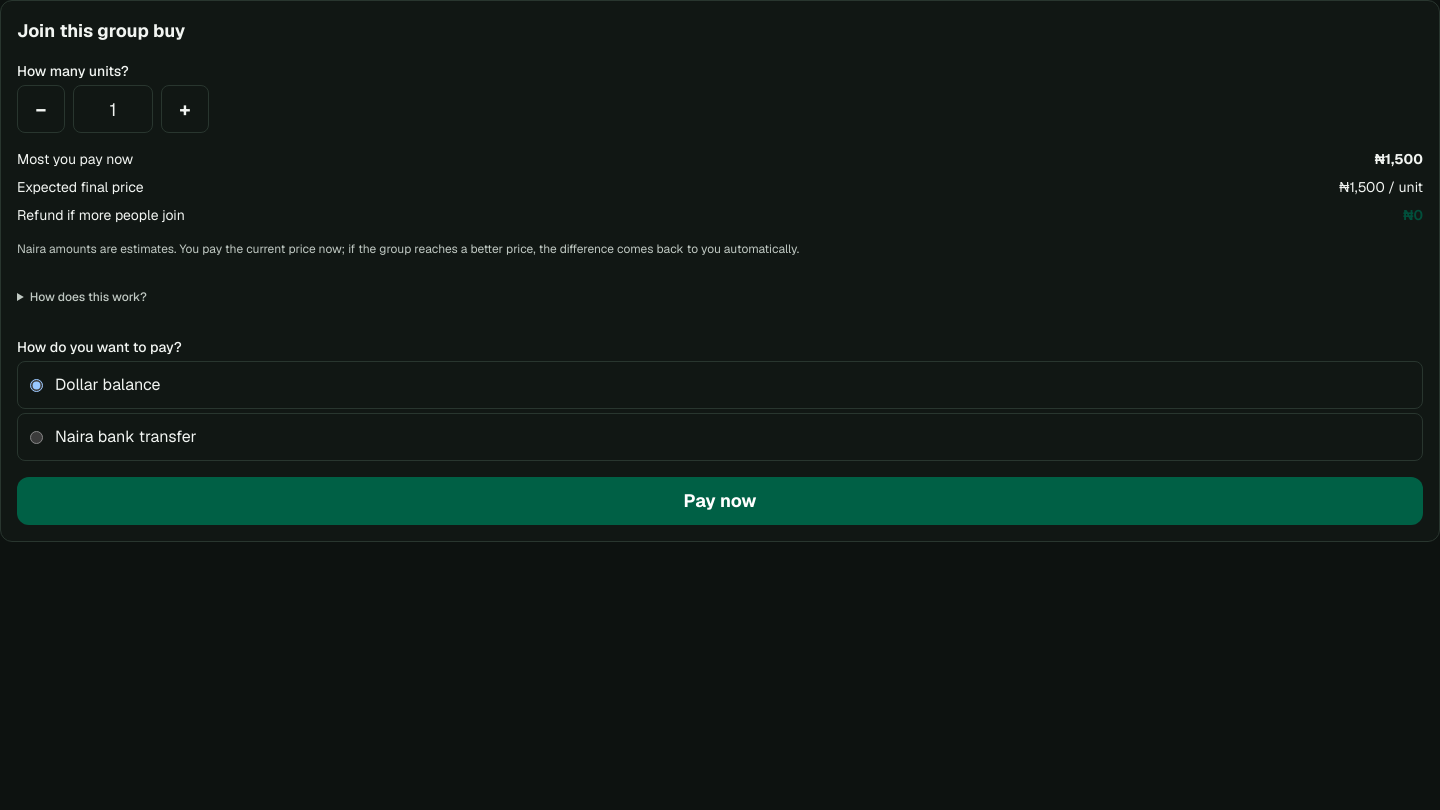
Scenario: JoinPanel with naira › blocks payment until the transfer arrives, then keeps showing the confirmation next to an enabled Pay button
The image size is (1440, 810).
Expected: the button "Pay now" is enabled, [17, 477, 1423, 525]
Click the radio button labelled "Naira bank transfer".
click(36, 437)  # box [30, 430, 43, 444]
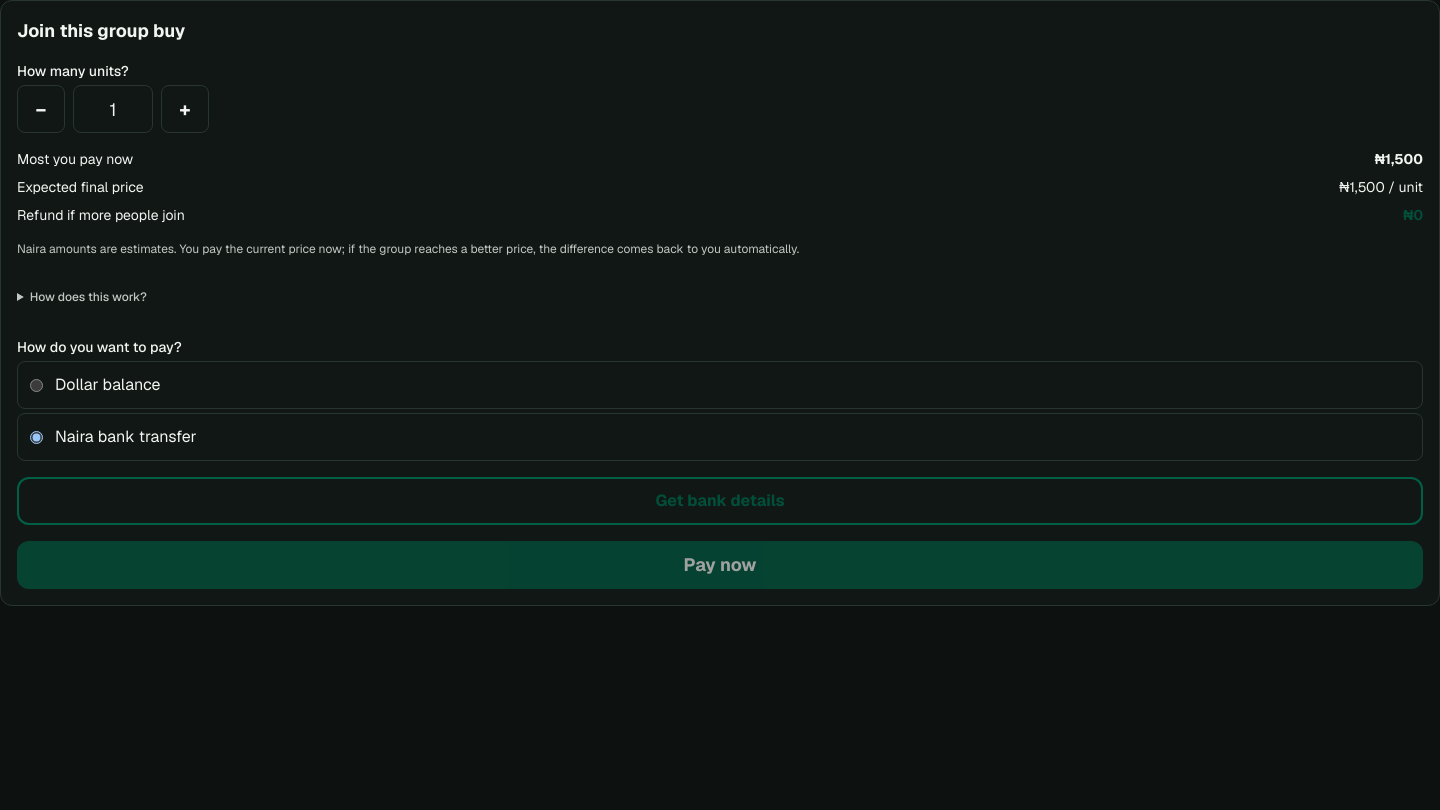
Now the button "Pay now" is disabled, box [17, 541, 1423, 589]
Click the button "Get bank details".
click(720, 501)  # box [17, 477, 1423, 525]
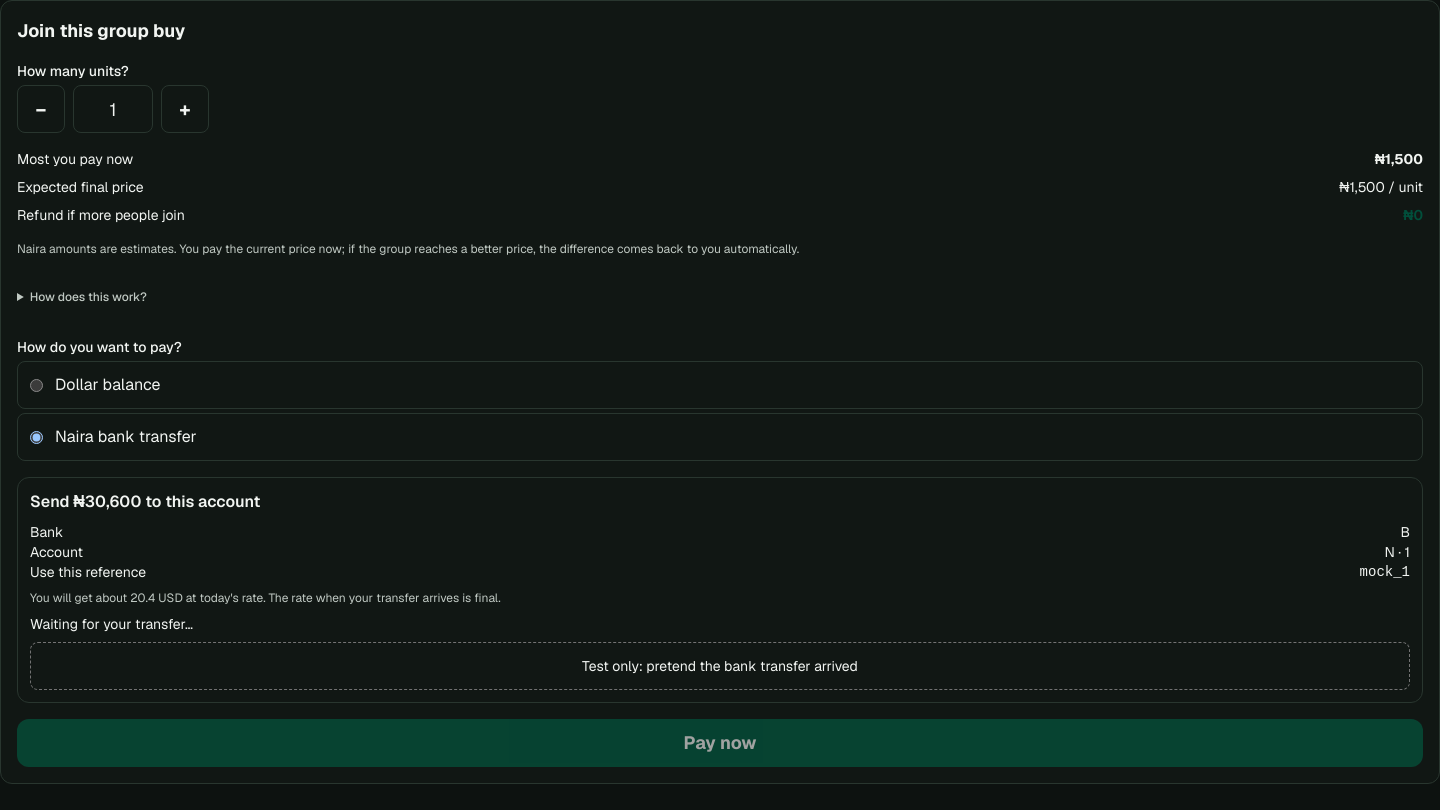
Click the button "Test only: pretend the bank transfer arrived".
click(720, 666)  # box [30, 642, 1410, 690]
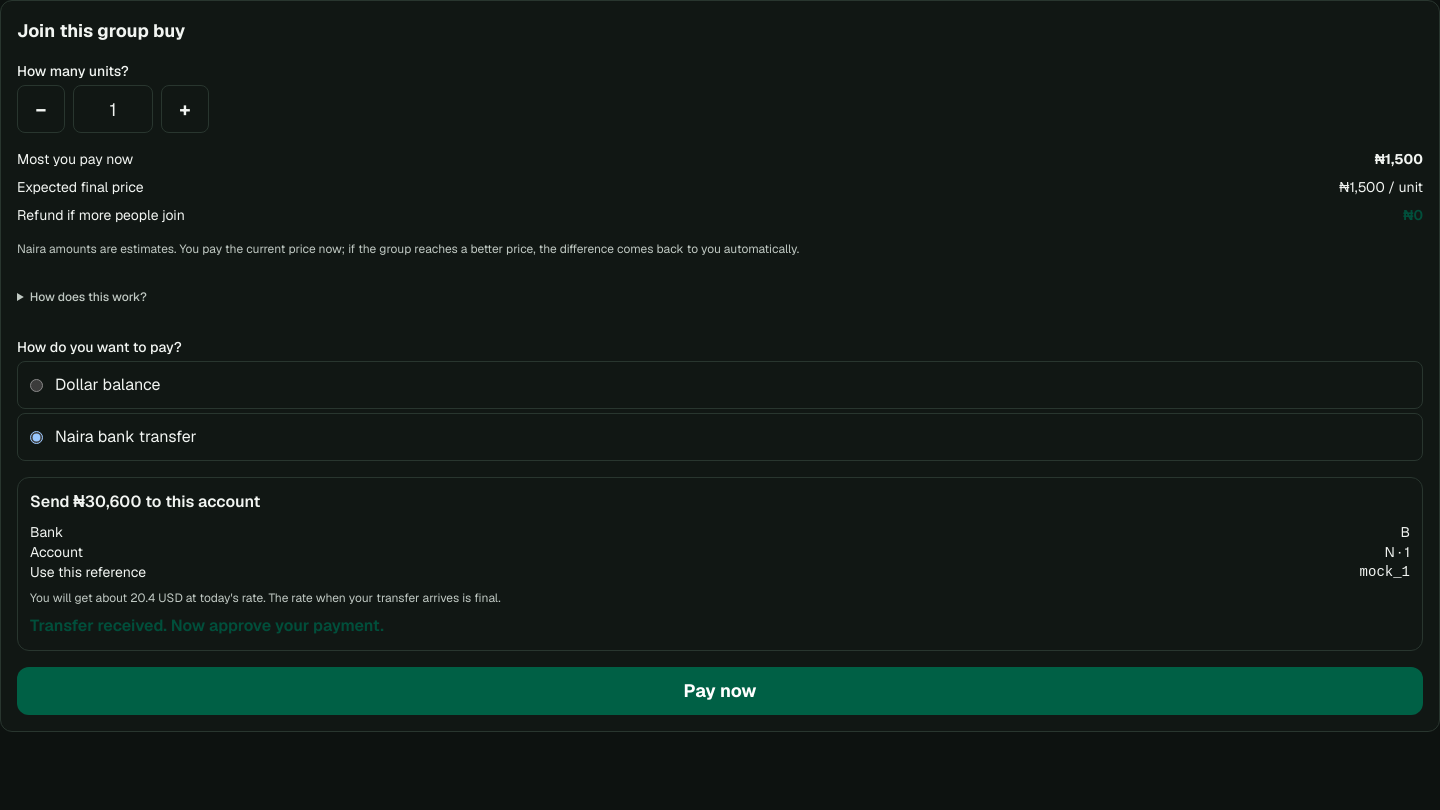
Now the button "Pay now" is enabled, box [17, 667, 1423, 715]
Now the text "Transfer received. Now approve your payment." is shown, box [30, 615, 384, 636]
Click the radio button labelled "Dollar balance".
click(36, 385)  # box [30, 378, 43, 392]
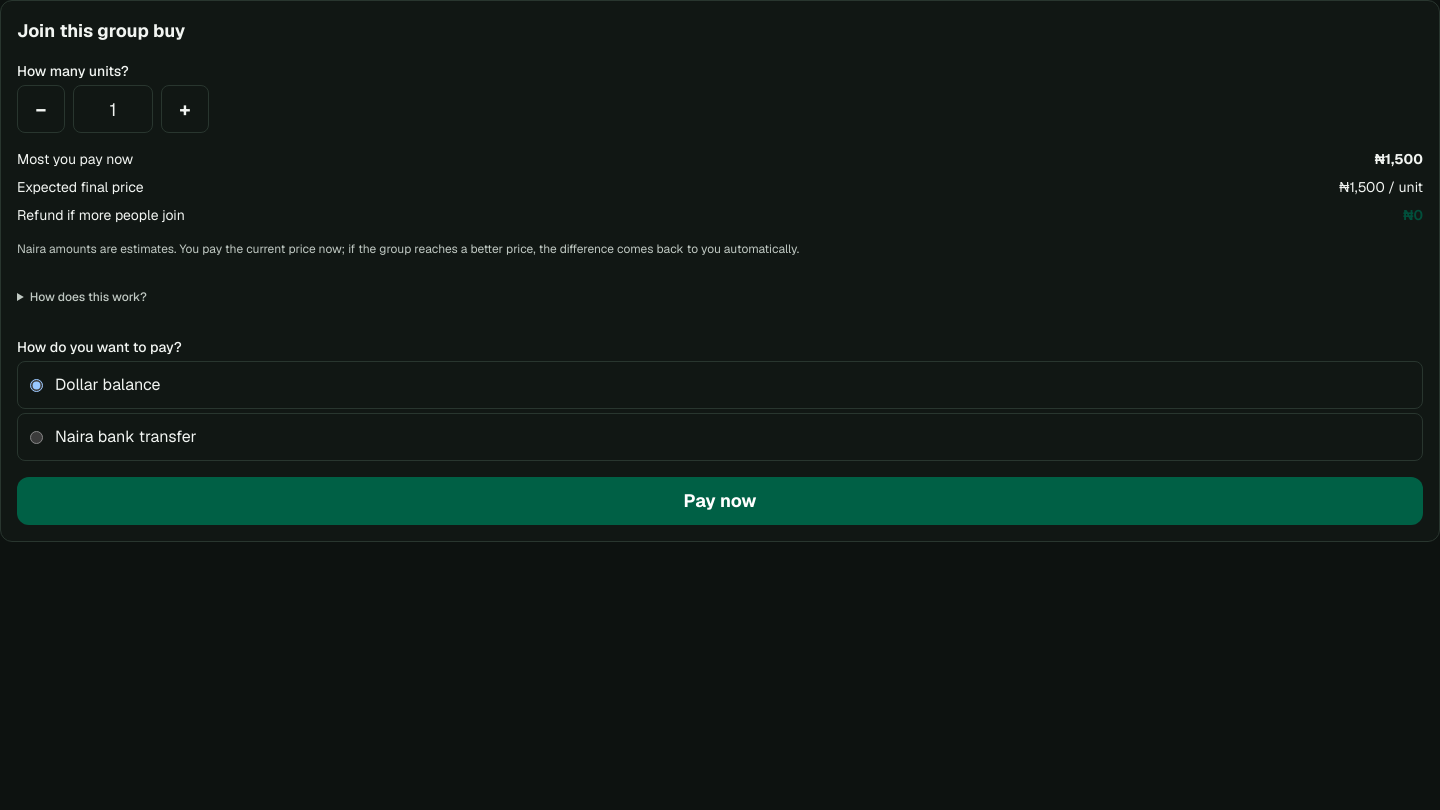
Now the text "Transfer received" is gone
